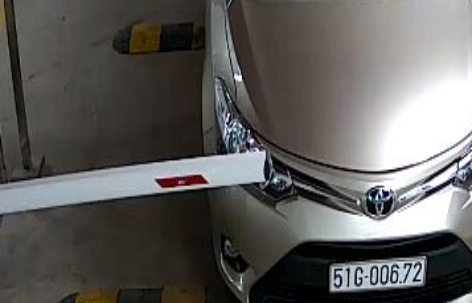plate: (323, 253, 431, 296)
